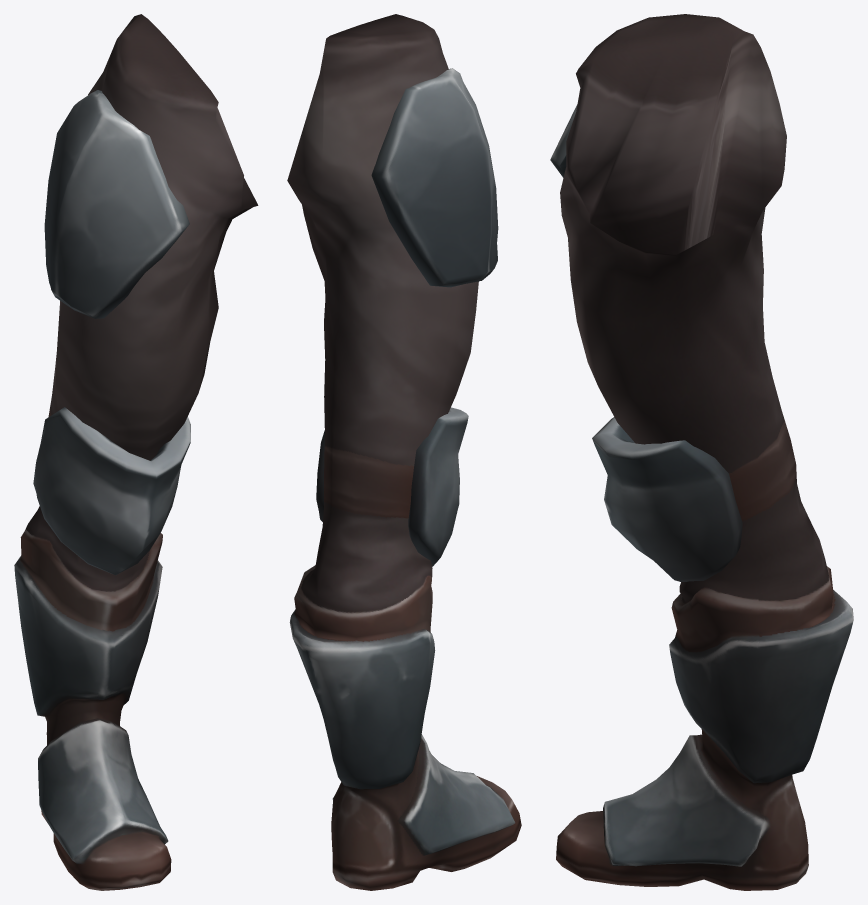
Rendered from M_RightLeg.fbx.
The picture shows the model from 3 angles, left to right: view 1: azimuth 30°, elevation 25°; view 2: azimuth 150°, elevation 25°; view 3: azimuth 270°, elevation 25°; orthographic projection. The views are drawn at different scales.
Parts seen in each view (by area): view 1: Male_Legs_1; view 2: Male_Legs_1; view 3: Male_Legs_1.
Boxes of the visible parts, x1,y1,x2,y2 form: Male_Legs_1: (14, 14, 258, 890); Male_Legs_1: (287, 14, 521, 890); Male_Legs_1: (550, 14, 853, 890).
Size of the model in its own units: 0.2415 by 1.02 by 0.3181.
